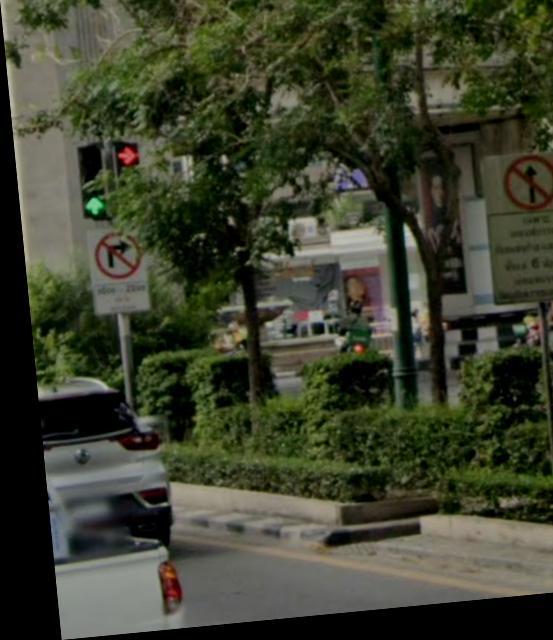not_go_straight: (496, 163, 553, 224)
not_turn_right: (89, 235, 146, 284)
